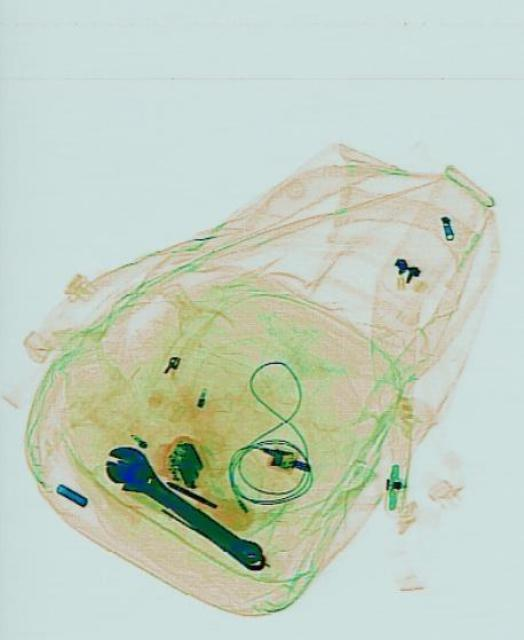Wrench: (94, 432, 272, 582)
